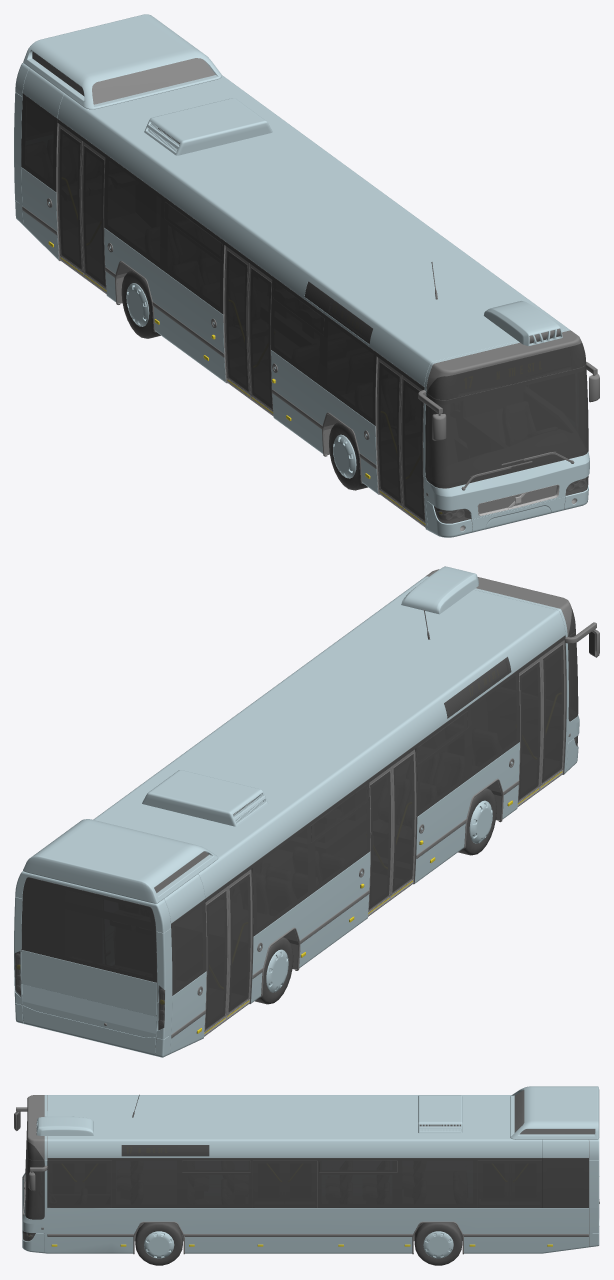
File: bus001.fbx
3 views of the same model, one above another, from view 1: azimuth 30°, elevation 25°; view 2: azimuth 150°, elevation 25°; view 3: azimuth 270°, elevation 25° (orthographic). The views are drawn at different scales.
Parts seen in each view (by area): view 1: bus001_bus_body_geo, bus001_bus_wheel_b_geo, bus001_bus_wheel_f_geo; view 2: bus001_bus_body_geo, bus001_bus_wheel_f_geo, bus001_bus_wheel_b_geo; view 3: bus001_bus_body_geo, bus001_bus_wheel_b_geo, bus001_bus_wheel_f_geo.
Part boxes in pixels (x1,y1,x2,y2): bus001_bus_body_geo: (14, 14, 599, 537); bus001_bus_wheel_b_geo: (121, 270, 160, 338); bus001_bus_wheel_f_geo: (329, 422, 367, 490); bus001_bus_body_geo: (14, 566, 599, 1057); bus001_bus_wheel_f_geo: (458, 788, 496, 855); bus001_bus_wheel_b_geo: (255, 937, 293, 1004); bus001_bus_body_geo: (14, 1086, 599, 1254); bus001_bus_wheel_b_geo: (414, 1223, 462, 1265); bus001_bus_wheel_f_geo: (135, 1223, 182, 1265).
Size of the model in its own units: 29.48 by 34.99 by 125.
